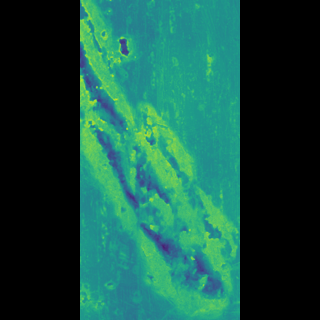Loch: (120, 1, 200, 315)
